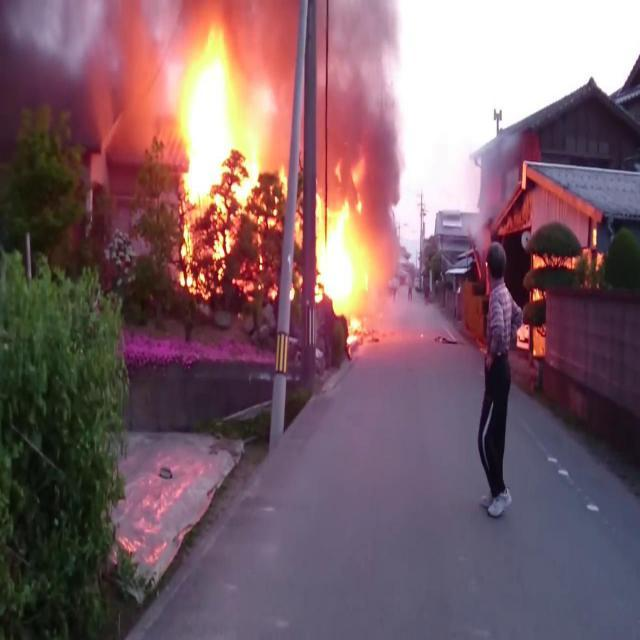Fire: (175, 31, 262, 302), (313, 157, 383, 347), (276, 163, 286, 199), (288, 284, 298, 302)
